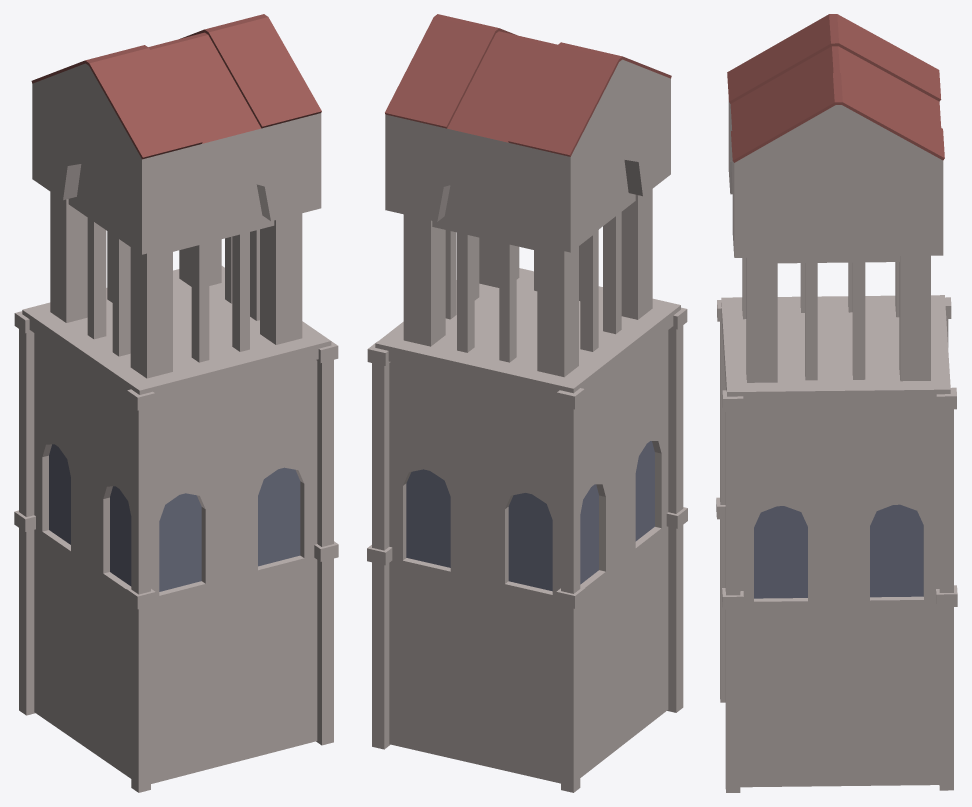
Rendered from building_4.glb.
The picture shows the model from 3 angles, left to right: view 1: azimuth 30°, elevation 25°; view 2: azimuth 150°, elevation 25°; view 3: azimuth 270°, elevation 25°; orthographic projection.
Visible parts, largest first — view 1: Cube.1083; view 2: Cube.1083; view 3: Cube.1083.
Part boxes in pixels (x1,y1,x2,y2): Cube.1083: (14, 14, 338, 792); Cube.1083: (367, 14, 687, 792); Cube.1083: (716, 14, 957, 792).
Bounding box in the file's own units: 0.0787 × 0.2465 × 0.0786.
